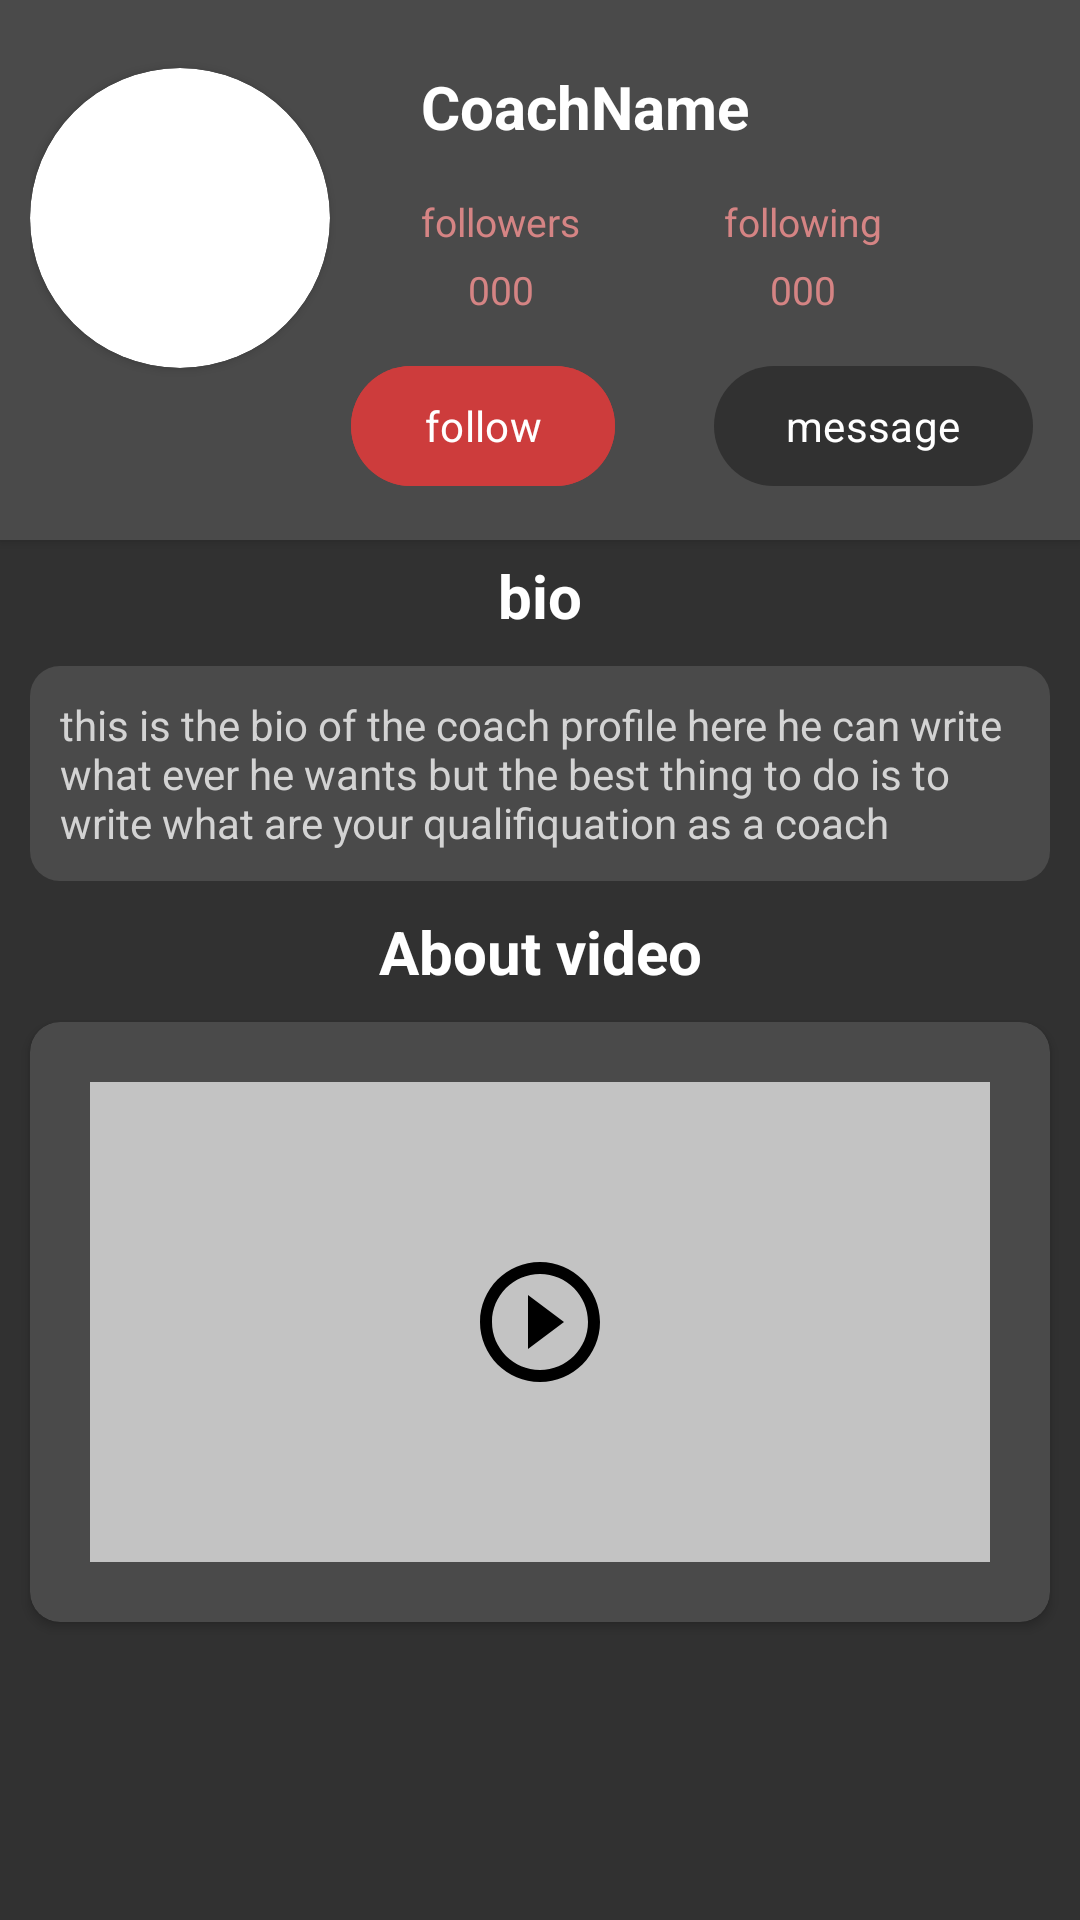

Icons on this 1080x1920 Android screen, each with the point to tap as (x,y):
play circle: (540,1322)
